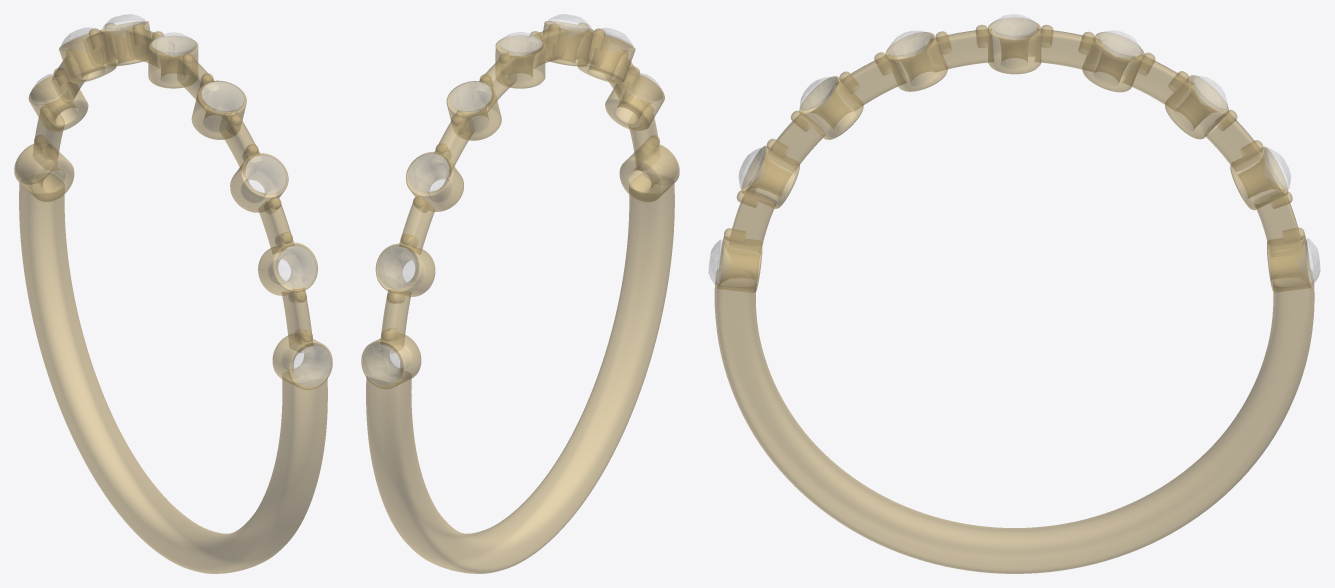
3 renders of one model, left to right at view 1: azimuth 30°, elevation 25°; view 2: azimuth 150°, elevation 25°; view 3: azimuth 270°, elevation 25°, orthographic. The views are drawn at different scales.
Parts seen in each view (by area): view 1: pCube5, diamond3; view 2: pCube5, diamond3; view 3: pCube5, diamond3.
Boxes of the visible parts, <box> form: pCube5: <box>14,21,332,573</box>; diamond3: <box>16,14,330,387</box>; pCube5: <box>361,21,679,573</box>; diamond3: <box>362,14,677,386</box>; pCube5: <box>714,18,1314,573</box>; diamond3: <box>708,14,1320,284</box>.
Size of the model in its own units: 0.2023 by 2.3 by 2.32.
